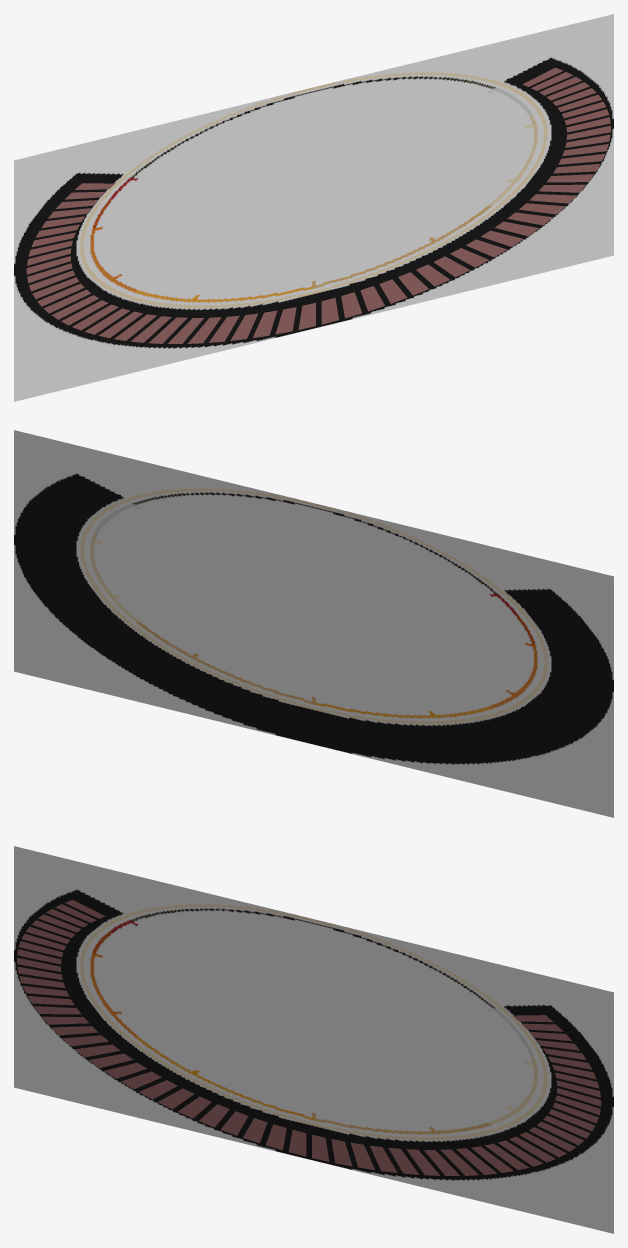
The model's file is GL_battery_ring_ticks.fbx.
The picture shows the model from 3 angles, top to bottom: view 1: azimuth 30°, elevation 25°; view 2: azimuth 150°, elevation 25°; view 3: azimuth 330°, elevation 25°; orthographic projection.
Visible parts, largest first — view 1: GL_battery_ring_back_plane; view 2: GL_battery_ring_back_plane; view 3: GL_battery_ring_back_plane.
Boxes of the visible parts, x1,y1,x2,y2 form: GL_battery_ring_back_plane: [14, 14, 613, 401]; GL_battery_ring_back_plane: [14, 430, 613, 817]; GL_battery_ring_back_plane: [14, 846, 613, 1233].
Size of the model in its own units: 16.79 by 6.46 by 0.2376.
2 materials, 1 textured.
